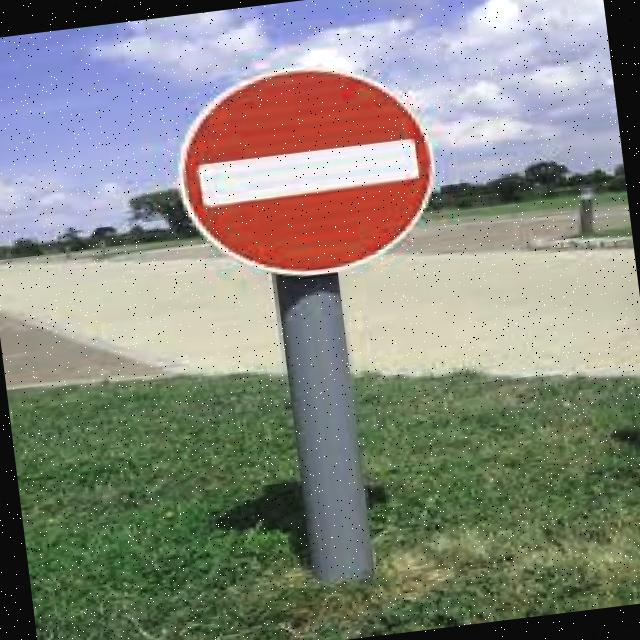Zakaz wjazdu: (168, 50, 456, 292)
